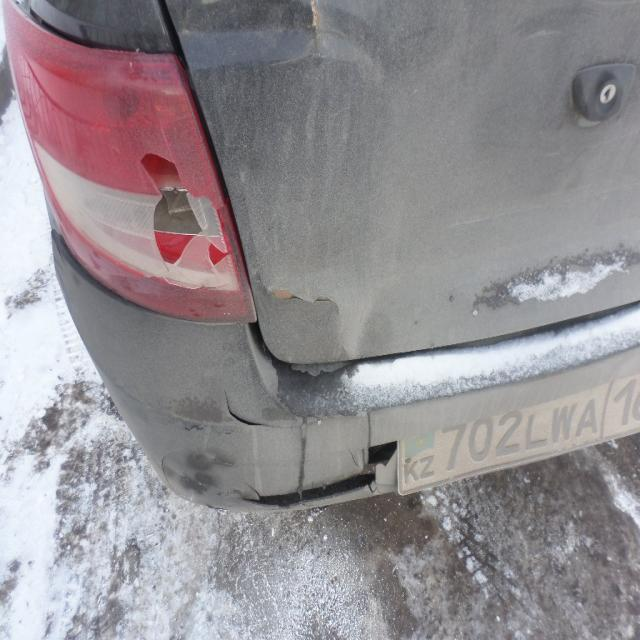Cabossage: (182, 0, 385, 67)
Dechirure: (237, 432, 401, 514), (25, 0, 106, 62), (204, 386, 271, 434), (271, 282, 348, 321)
Phare abime: (38, 35, 236, 316)
Rayure: (270, 283, 298, 311)
